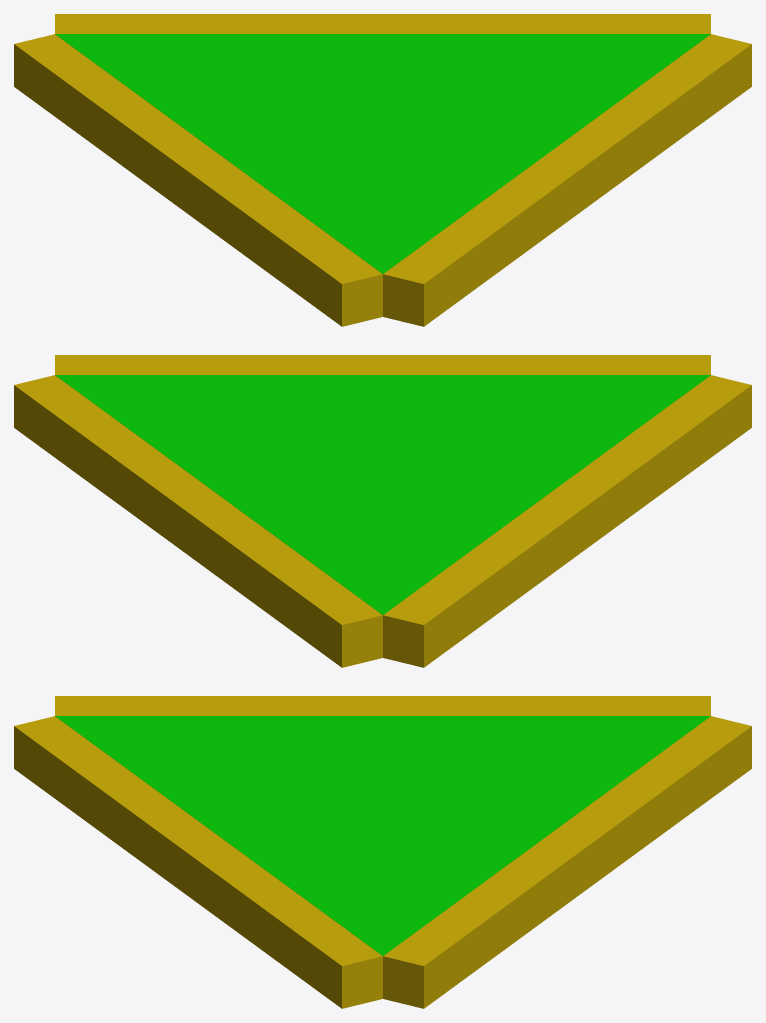
Rendered from MembraneTriangleUnit.fbx.
3 views of the same model, one above another, from view 1: azimuth 30°, elevation 25°; view 2: azimuth 150°, elevation 25°; view 3: azimuth 270°, elevation 25° (orthographic).
Parts seen in each view (by area): view 1: TriangleUnit, Highlight, Highlight_3, Highlight_2; view 2: TriangleUnit, Highlight_2, Highlight_3, Highlight; view 3: TriangleUnit, Highlight, Highlight_2, Highlight_3.
Part boxes in pixels (x1=…): TriangleUnit: x1=55, y1=34, x2=710, y2=273; Highlight: x1=383, y1=34, x2=751, y2=326; Highlight_3: x1=14, y1=34, x2=382, y2=326; Highlight_2: x1=55, y1=14, x2=710, y2=33; TriangleUnit: x1=55, y1=375, x2=710, y2=614; Highlight_2: x1=14, y1=375, x2=382, y2=667; Highlight_3: x1=383, y1=375, x2=751, y2=667; Highlight: x1=55, y1=355, x2=710, y2=374; TriangleUnit: x1=55, y1=716, x2=710, y2=955; Highlight: x1=14, y1=716, x2=382, y2=1008; Highlight_2: x1=383, y1=716, x2=751, y2=1008; Highlight_3: x1=55, y1=696, x2=710, y2=715.
Size of the model in its own units: 337 by 25 by 390.
